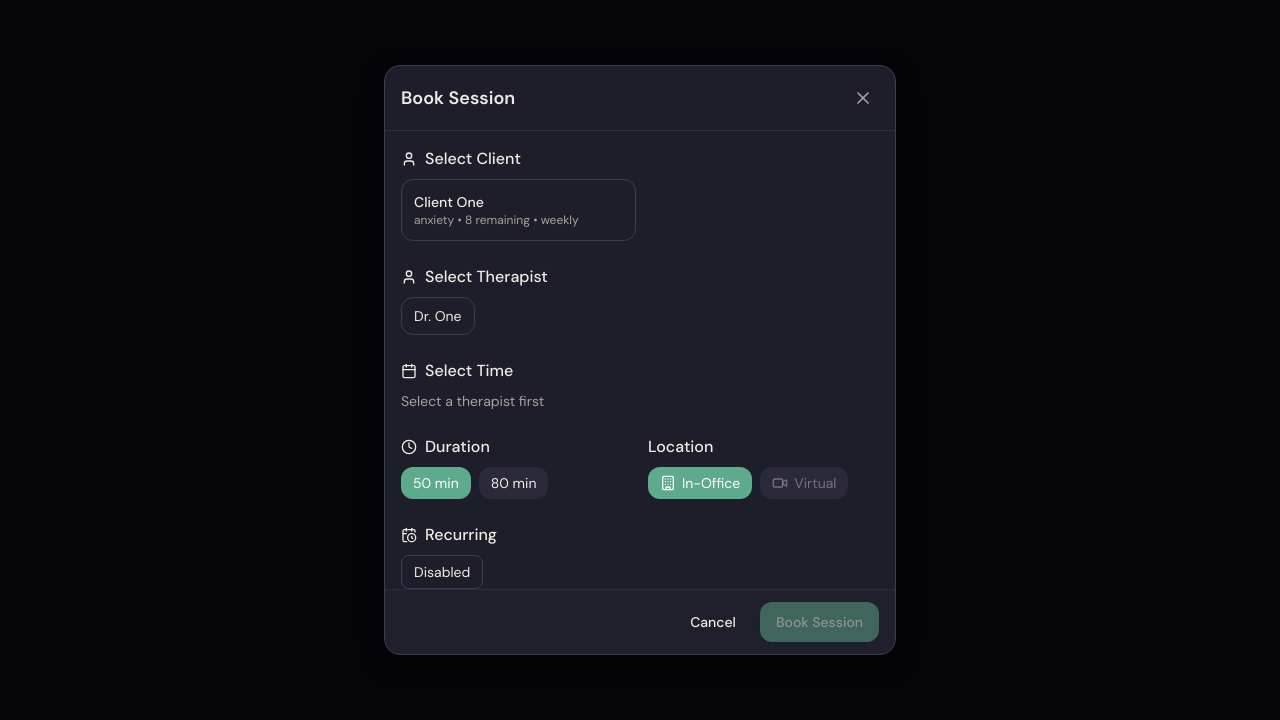
BookingModal Auto-Population › auto-enables recurring when client has multiple remaining sessions
Note: Click on the client
Click the text "Client One": (449, 202) 414,193 -> 484,211
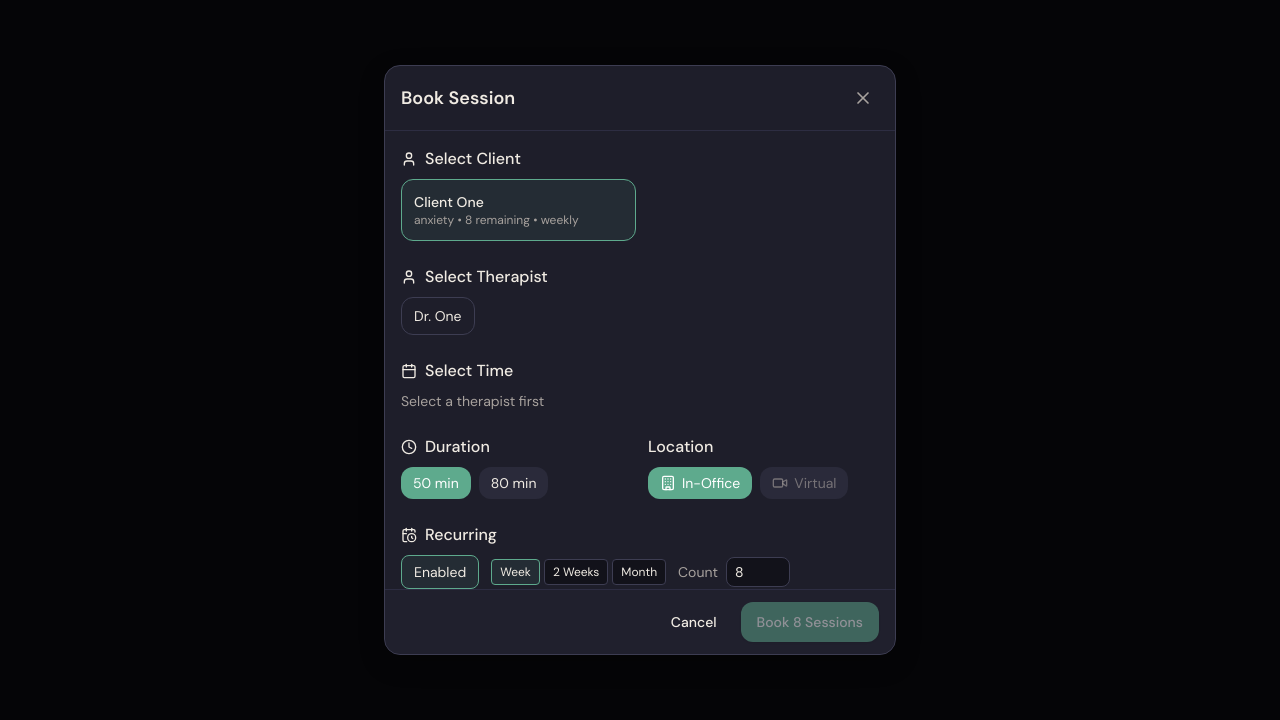
Now the button "Enabled" is shown, box 401,555 -> 479,589
